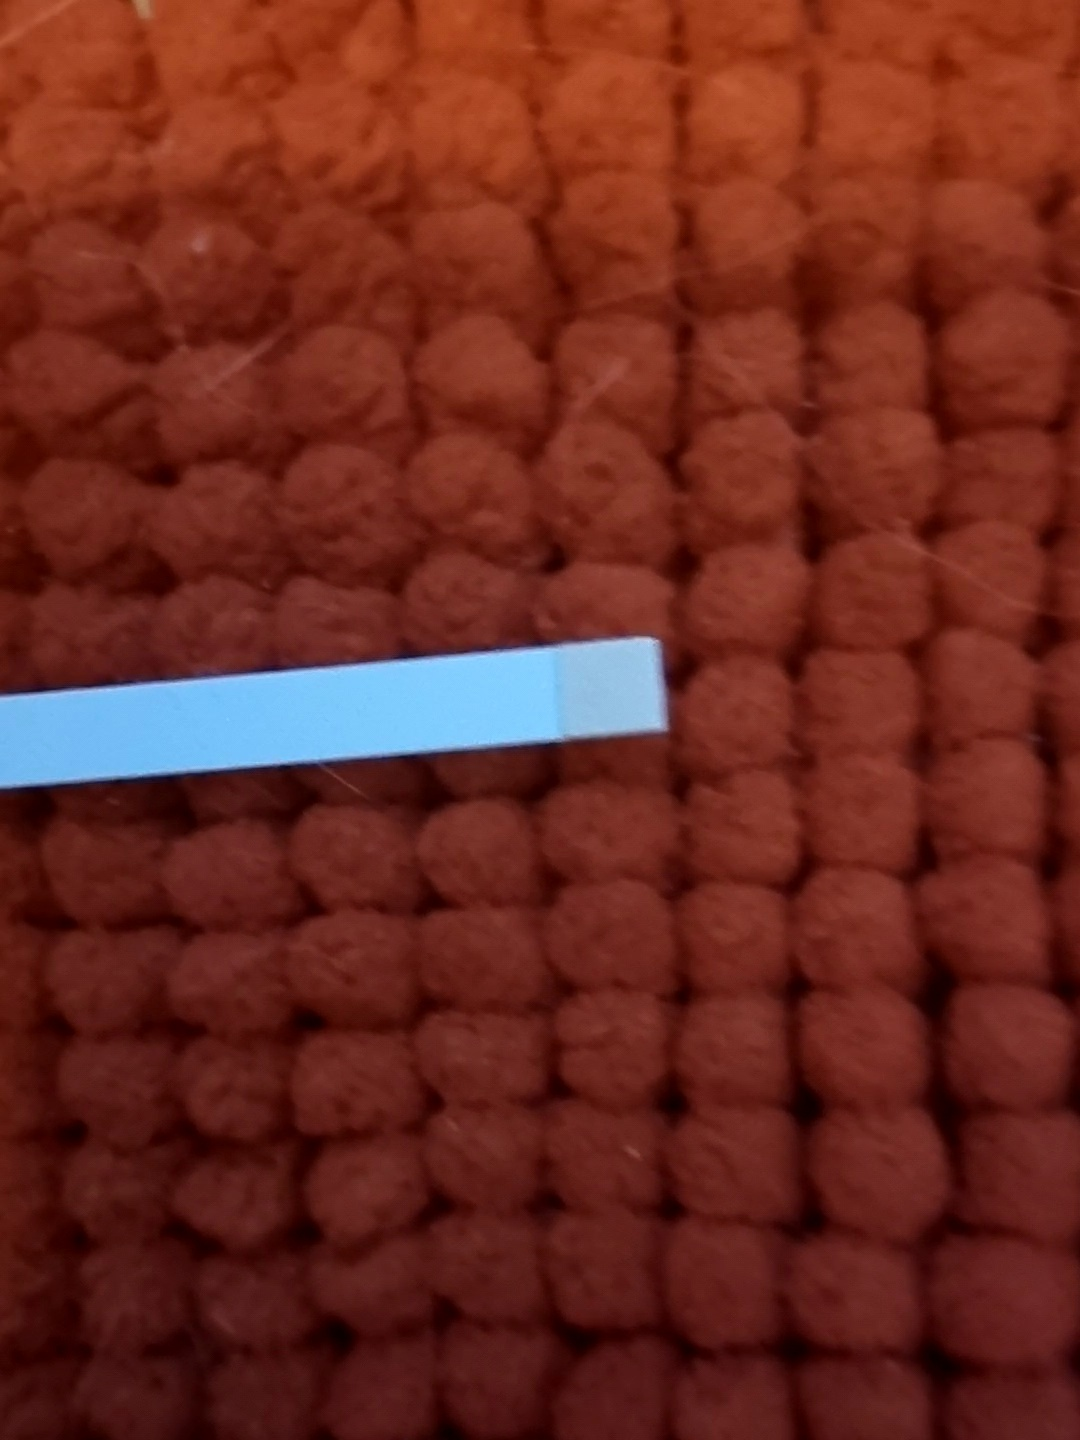keto-tip: (549, 637, 670, 740)
